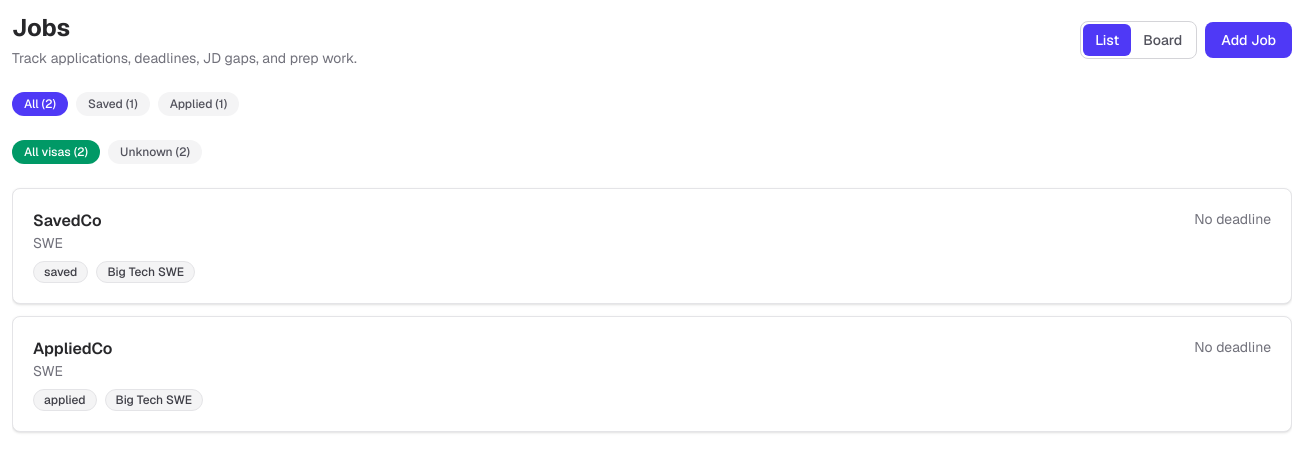
Scenario: JobsPage — sponsorship filter + stall badge (MOM-124/105/171) › switches to the board view and groups cards by funnel stage
Expected: the heading "SavedCo" is shown, [33,210,102,231]
What coordinates should you click on to do the following:
click the button "board"
I would click on:
 (1163, 40)
Its box is [1131,24,1194,56].
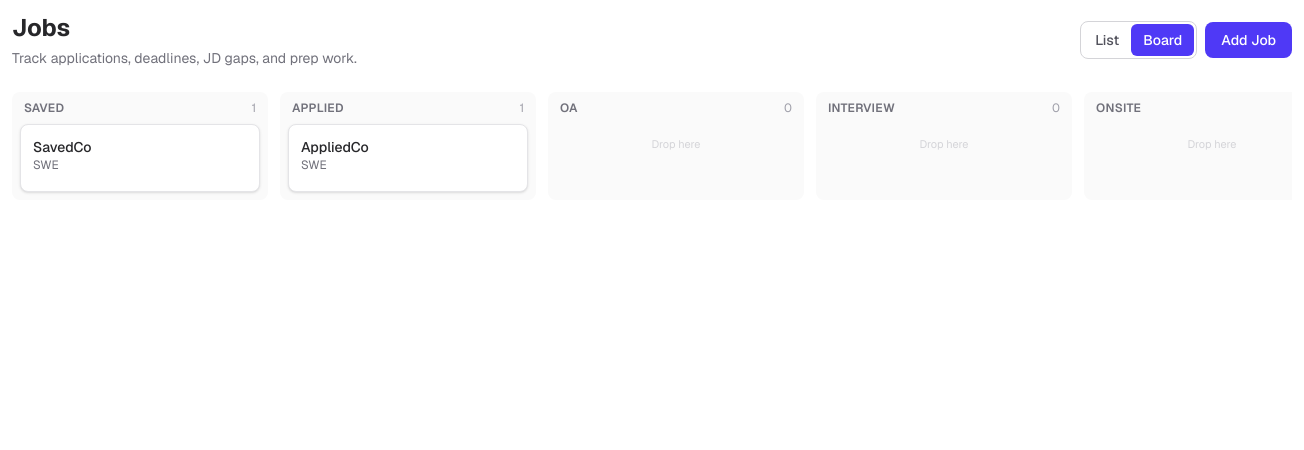
Expected: the text "saved" is shown, [24,100,64,116]
Result: the text "SavedCo" is shown at [33,138,92,156]
Result: the text "AppliedCo" is shown at [301,138,369,156]
